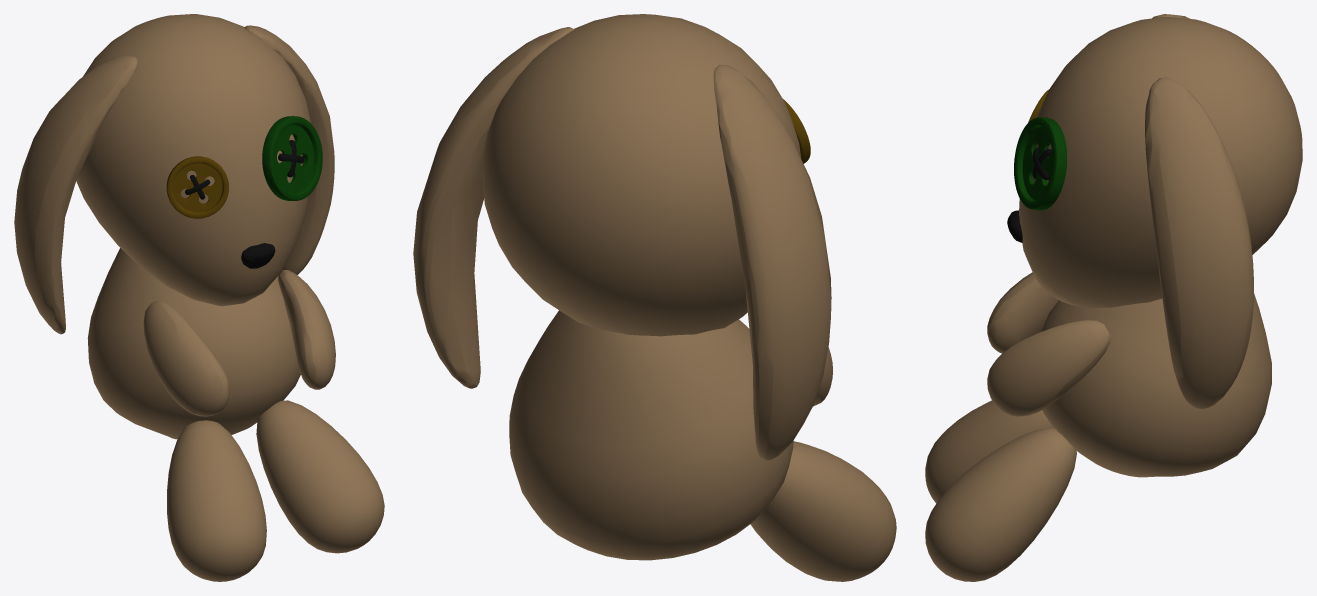
File: Doll.fbx
The picture shows the model from 3 angles, left to right: view 1: azimuth 30°, elevation 25°; view 2: azimuth 150°, elevation 25°; view 3: azimuth 270°, elevation 25°; orthographic projection. The views are drawn at different scales.
Parts seen in each view (by area): view 1: Sphere.006, Cylinder.019, Cylinder.020, Sphere.005; view 2: Sphere.006; view 3: Sphere.006, Cylinder.019.
Part boxes in pixels (x1,y1,x2,y2): Sphere.006: [14, 14, 384, 581]; Cylinder.019: [262, 116, 322, 200]; Cylinder.020: [166, 156, 228, 218]; Sphere.005: [241, 243, 275, 268]; Sphere.006: [413, 14, 896, 581]; Sphere.006: [925, 14, 1302, 581]; Cylinder.019: [1014, 117, 1066, 210].
Size of the model in its own units: 205 by 305 by 202.
